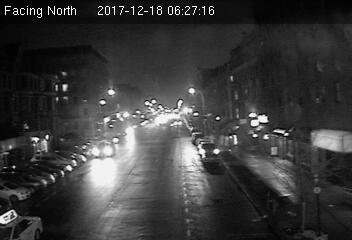car: (92, 141, 116, 158), (199, 142, 219, 156)
